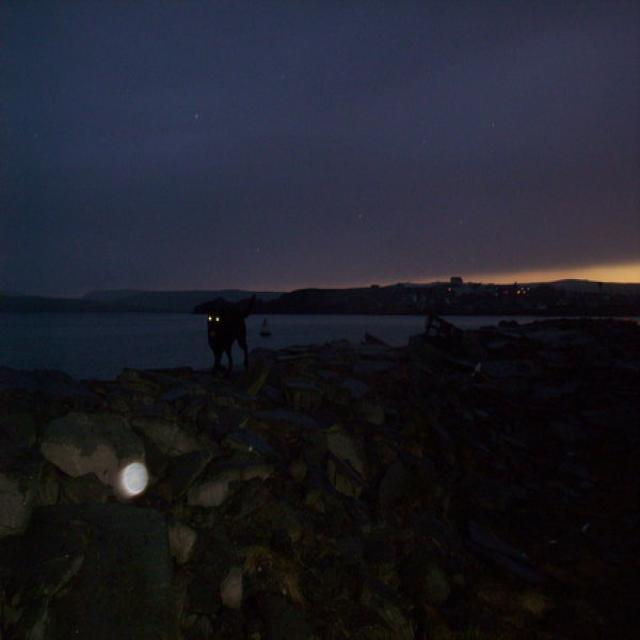Dog: (167, 212, 284, 389)
